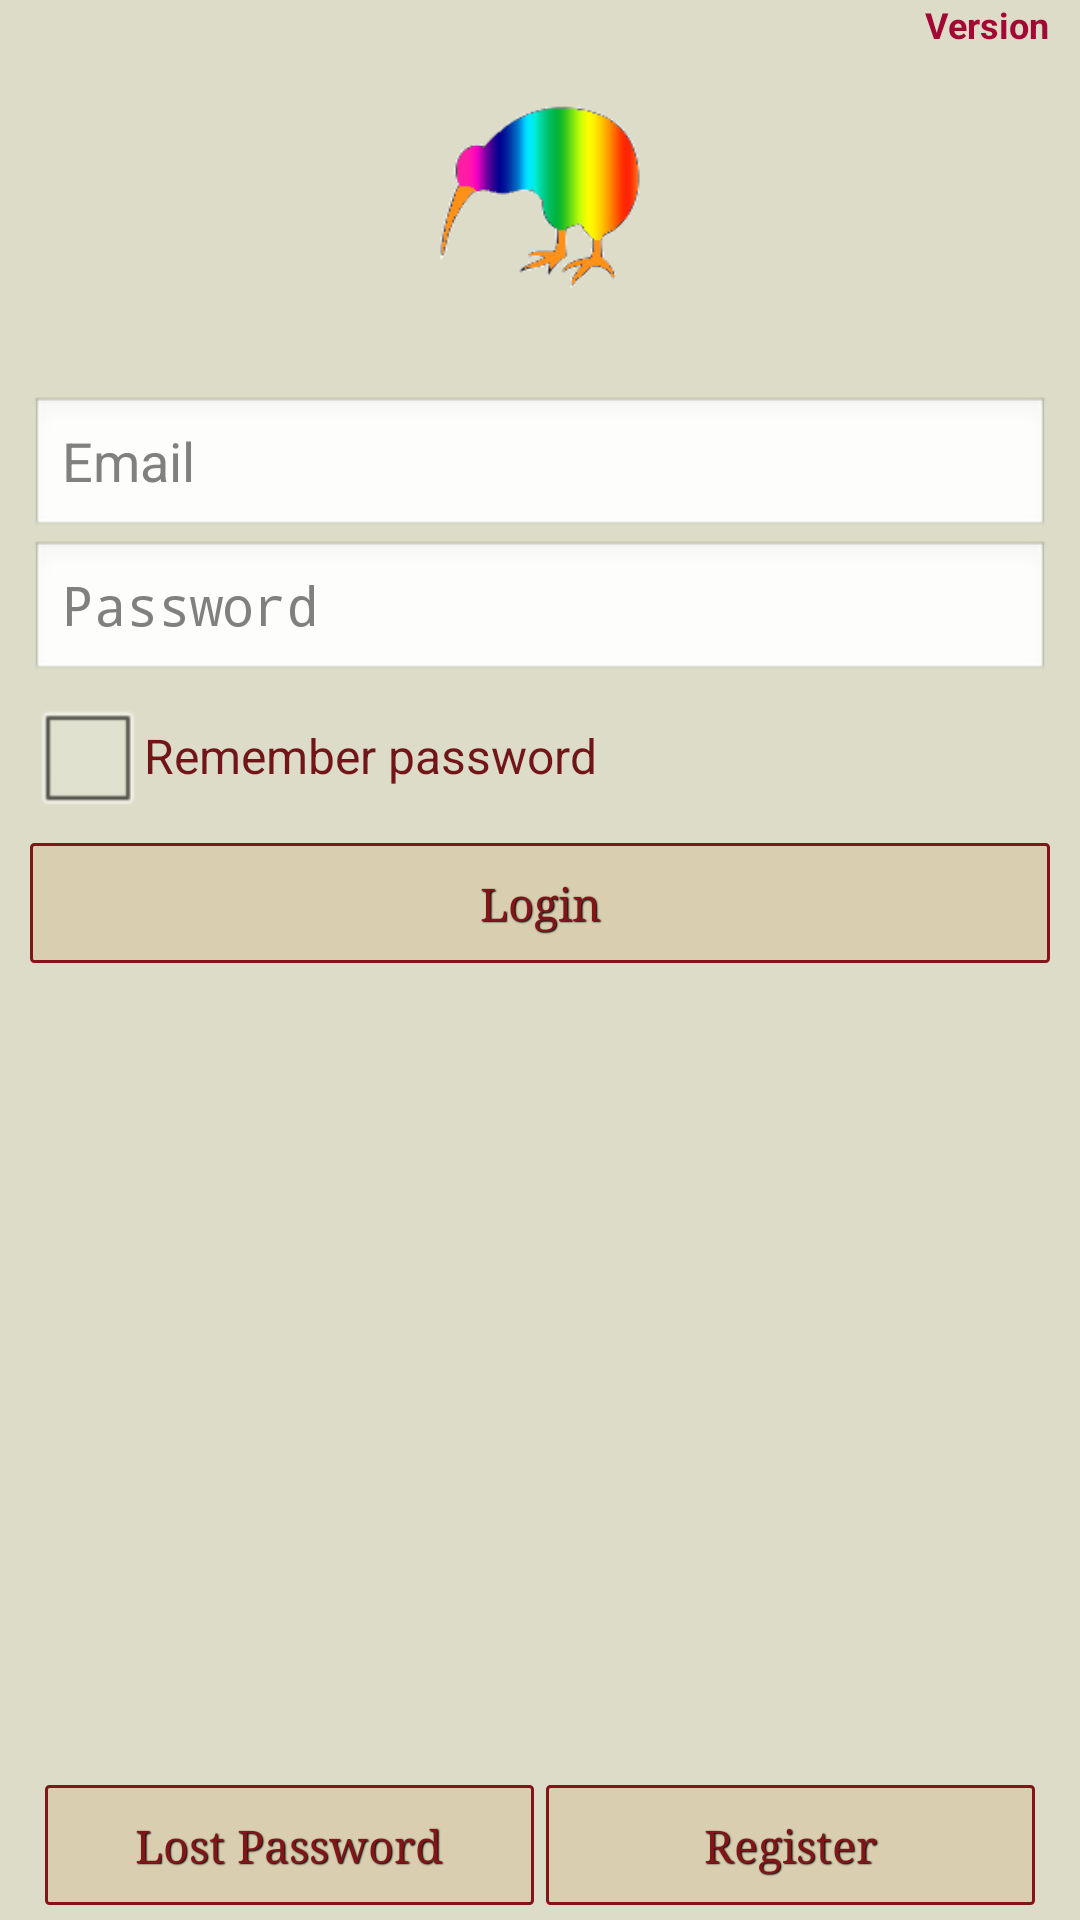

Screen size 1080*1920. Icon name, then its center in pixels as (x=x, y=y):
kiwicolour: (x=540, y=197)
